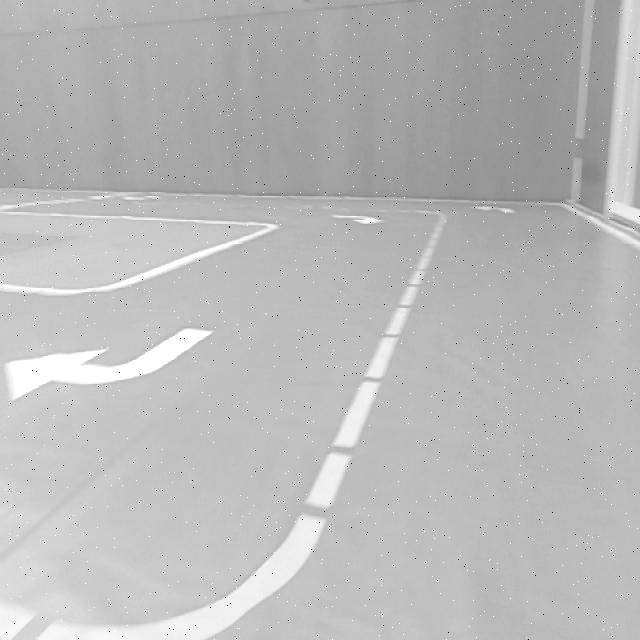left_lane: (281, 220, 445, 552)
right_lane: (562, 206, 640, 251)
